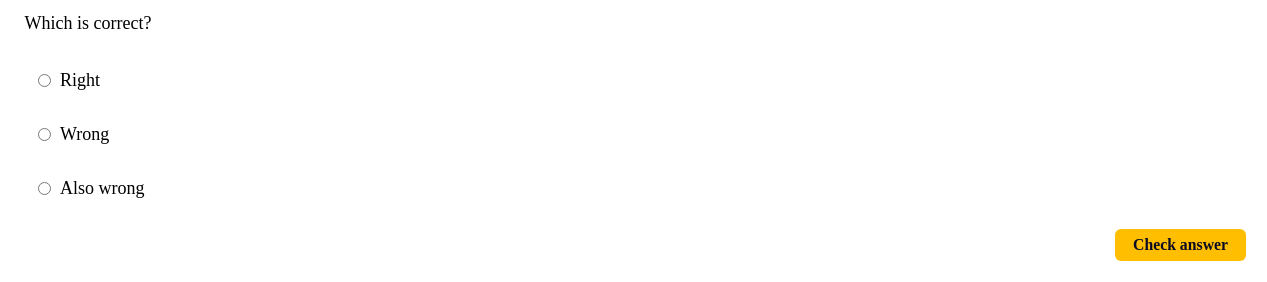
Scenario: MultipleChoice › shows incorrect feedback for a wrong selection
Click the radio button labelled "Wrong". click: coordinates (44, 134)
box: [38,128,51,140]
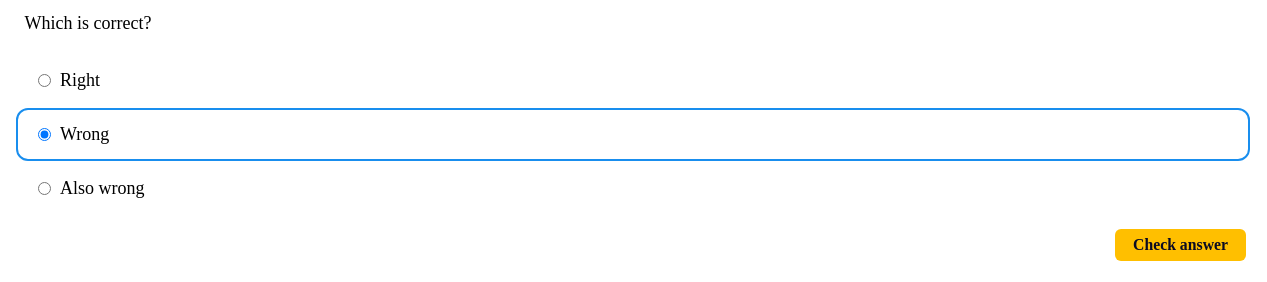
Click the button "Check answer". click: coordinates (1181, 245)
box: [1115,228,1246,261]
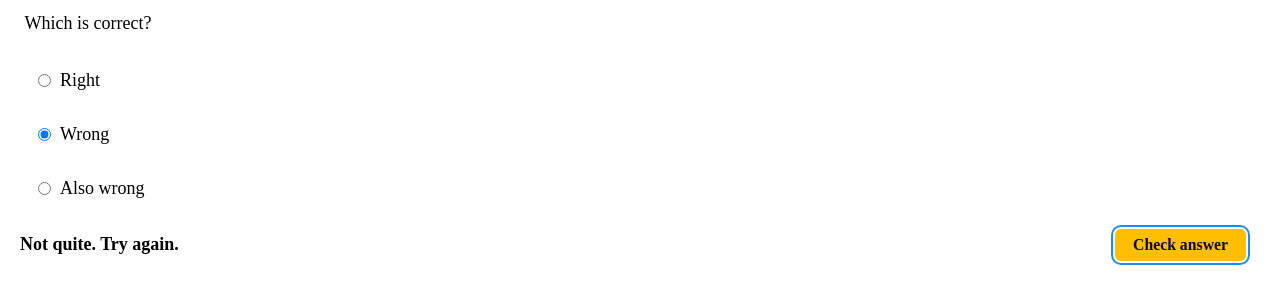
Check: the message reads "Not quite. Try again.", box [20,234,179,254]
